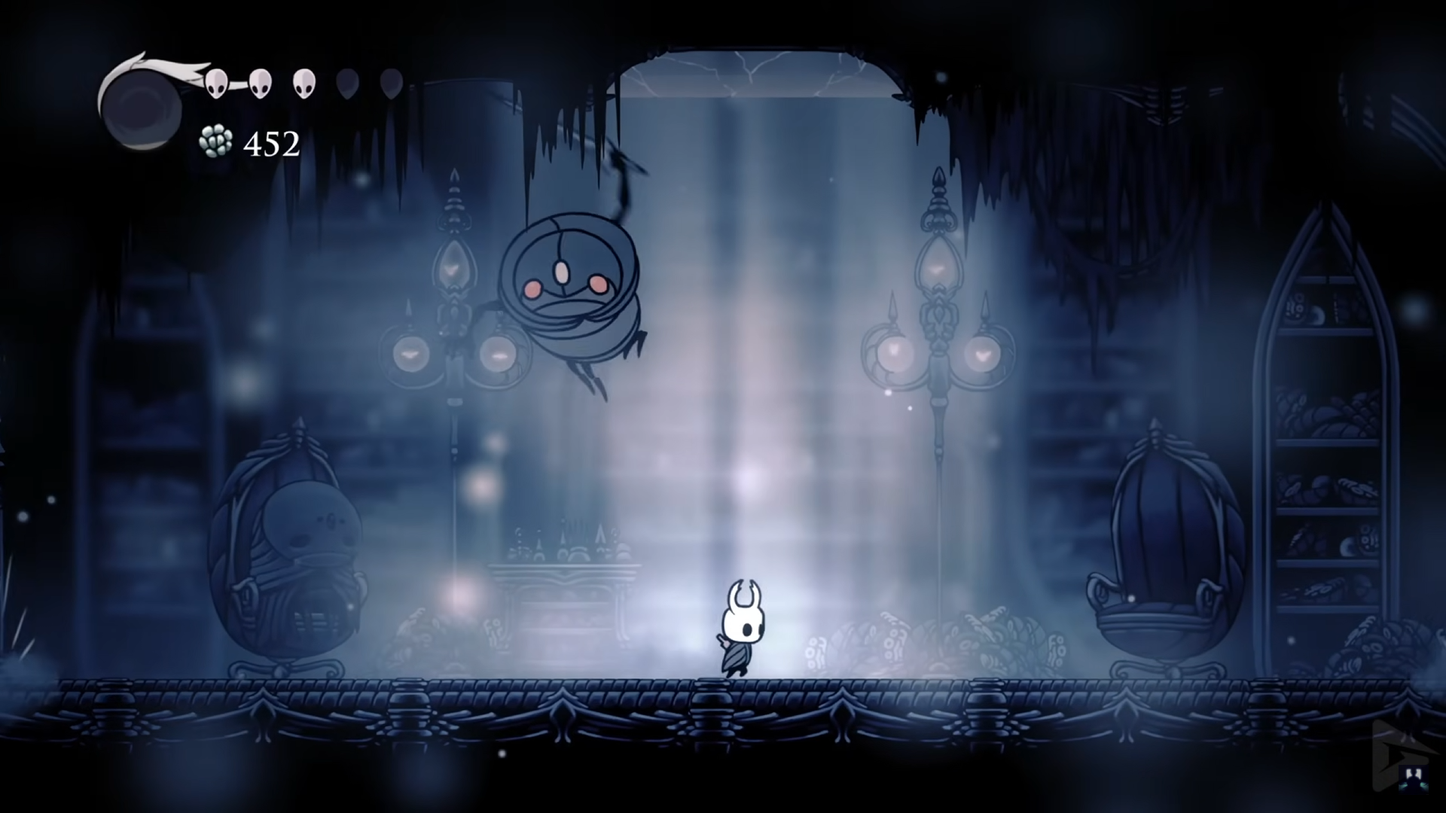HK: (710, 577, 773, 679)
